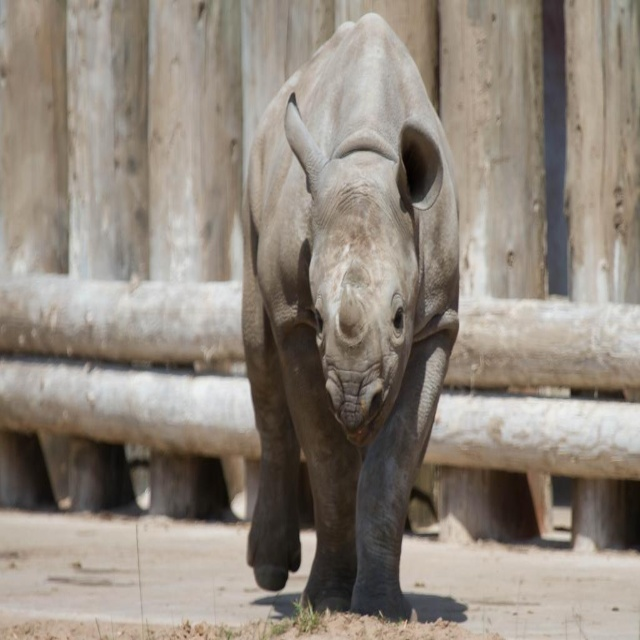Rhinoceros: (237, 10, 465, 615)
